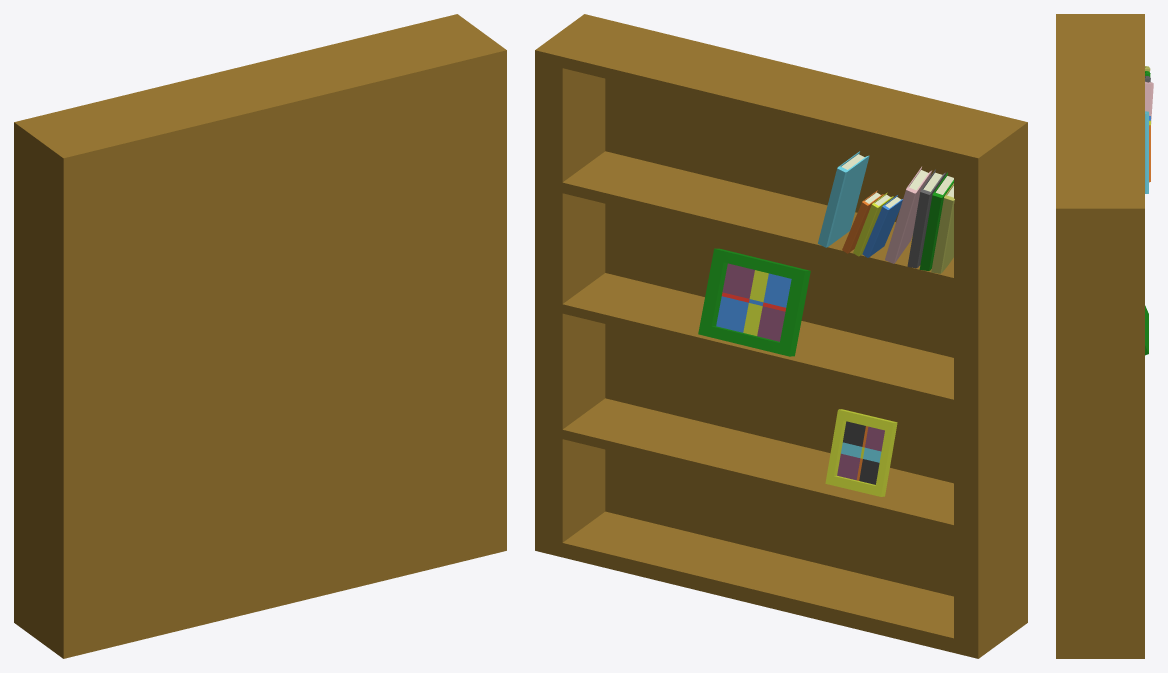
The model's file is Book01.fbx.
3 renders of one model, left to right at view 1: azimuth 30°, elevation 25°; view 2: azimuth 150°, elevation 25°; view 3: azimuth 270°, elevation 25°, orthographic. The views are drawn at different scales.
Visible parts, largest first — view 1: Book01; view 2: Book01; view 3: Book01.
Part boxes in pixels (x1,y1,x2,y2): Book01: [14, 14, 506, 658]; Book01: [535, 14, 1027, 658]; Book01: [1056, 14, 1153, 658].
Size of the model in its own units: 1.11 by 0.2354 by 1.2.
